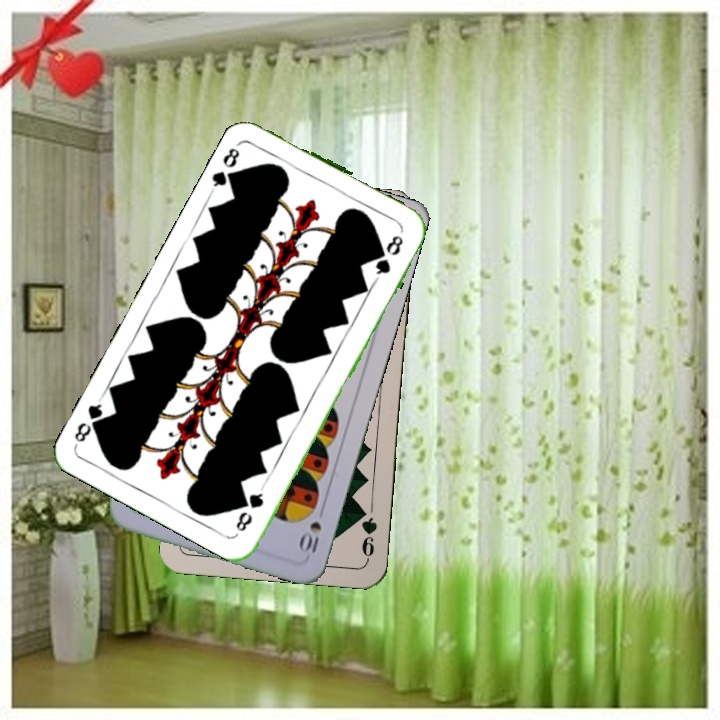G8: (207, 138, 243, 191), (231, 482, 267, 534)
G9: (355, 503, 380, 563)
S10: (295, 502, 328, 557)
